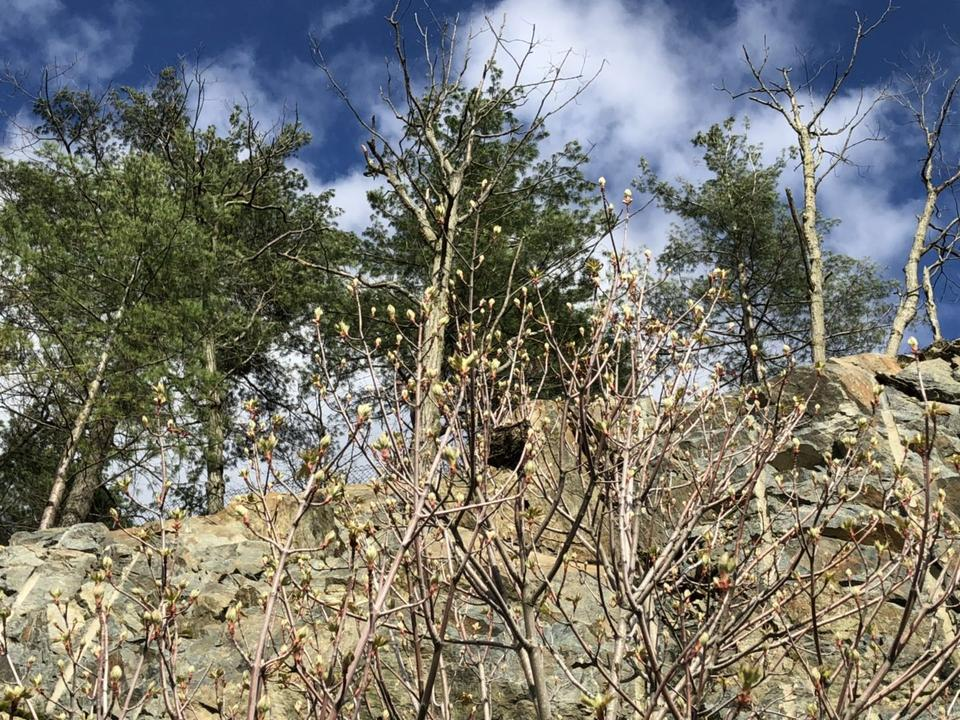bird-nest: (482, 417, 532, 473), (208, 338, 261, 379)
